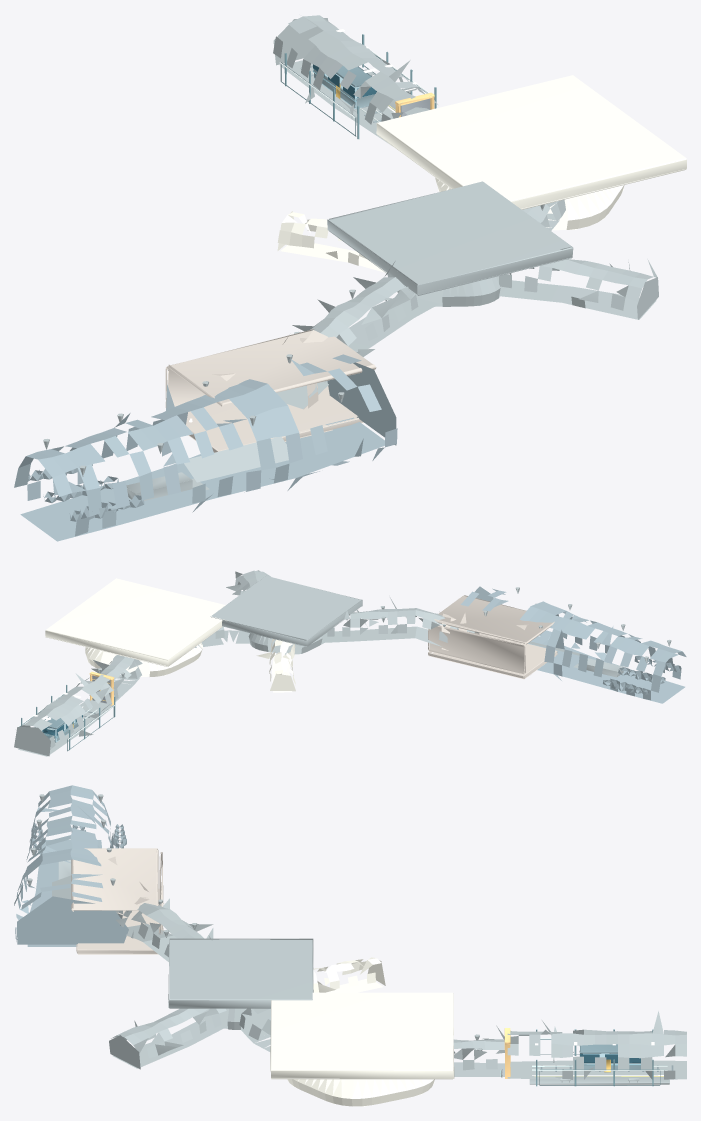
File: cave-low.glb
3 renders of one model, top to bottom at view 1: azimuth 30°, elevation 25°; view 2: azimuth 150°, elevation 25°; view 3: azimuth 270°, elevation 25°, orthographic. The views are drawn at different scales.
Parts seen in each view (by area): view 1: UN_Boat_Cavern, UN_Hall_Roof_Shield, UN_Junction_Roof_Shield, UN_Station_Approach, UN_Landing_Roof, UN_Descent, UN_Tide_Alcove, UN_Sheltered_Landing, UN_Salt_Fissure, UN_Wading_Ramp, UN_Underneath_Hall, UN_Four_Way_Junction (+2 smaller); view 2: UN_Hall_Roof_Shield, UN_Boat_Cavern, UN_Junction_Roof_Shield, UN_Station_Approach, UN_Descent, UN_Landing_Roof, UN_Landing_South_Wall, UN_Underneath_Hall, UN_Salt_Fissure, UN_Sheltered_Landing, UN_Final_Corridor, UN_Four_Way_Junction (+4 smaller); view 3: UN_Hall_Roof_Shield, UN_Junction_Roof_Shield, UN_Boat_Cavern, UN_Station_Approach, UN_Landing_Roof, UN_Tide_Alcove, UN_Underneath_Hall, UN_Descent, UN_Salt_Fissure, UN_Final_Corridor, UN_Sheltered_Landing, UN_Station_Preview_Platform (+2 smaller).
Boxes of the visible parts, x1=… form: UN_Boat_Cavern: x1=14, y1=354, x2=397, y2=541; UN_Hall_Roof_Shield: x1=376, y1=75, x2=686, y2=209; UN_Junction_Roof_Shield: x1=327, y1=181, x2=573, y2=295; UN_Station_Approach: x1=273, y1=15, x2=437, y2=145; UN_Landing_Roof: x1=168, y1=329, x2=376, y2=406; UN_Descent: x1=276, y1=261, x2=439, y2=408; UN_Tide_Alcove: x1=499, y1=259, x2=658, y2=319; UN_Sheltered_Landing: x1=186, y1=386, x2=363, y2=452; UN_Salt_Fissure: x1=277, y1=211, x2=386, y2=272; UN_Wading_Ramp: x1=184, y1=436, x2=288, y2=489; UN_Underneath_Hall: x1=435, y1=178, x2=624, y2=230; UN_Four_Way_Junction: x1=387, y1=273, x2=511, y2=306; UN_Hall_Roof_Shield: x1=45, y1=578, x2=229, y2=666; UN_Boat_Cavern: x1=461, y1=586, x2=686, y2=703; UN_Junction_Roof_Shield: x1=210, y1=576, x2=362, y2=646; UN_Station_Approach: x1=14, y1=673, x2=118, y2=756; UN_Descent: x1=321, y1=597, x2=478, y2=646; UN_Landing_Roof: x1=434, y1=595, x2=554, y2=644; UN_Landing_South_Wall: x1=428, y1=625, x2=525, y2=674; UN_Underneath_Hall: x1=85, y1=642, x2=202, y2=676; UN_Salt_Fissure: x1=256, y1=639, x2=295, y2=692; UN_Sheltered_Landing: x1=428, y1=631, x2=557, y2=679; UN_Final_Corridor: x1=91, y1=655, x2=142, y2=701; UN_Four_Way_Junction: x1=248, y1=633, x2=323, y2=654; UN_Hall_Roof_Shield: x1=270, y1=992, x2=454, y2=1079; UN_Junction_Roof_Shield: x1=168, y1=938, x2=313, y2=1008; UN_Boat_Cavern: x1=14, y1=785, x2=128, y2=946; UN_Station_Approach: x1=507, y1=1011, x2=686, y2=1079; UN_Landing_Roof: x1=71, y1=848, x2=158, y2=911; UN_Tide_Alcove: x1=109, y1=1008, x2=226, y2=1069; UN_Underneath_Hall: x1=287, y1=1079, x2=434, y2=1106; UN_Descent: x1=115, y1=898, x2=213, y2=961; UN_Salt_Fissure: x1=313, y1=957, x2=385, y2=992; UN_Final_Corridor: x1=453, y1=1025, x2=504, y2=1076; UN_Sheltered_Landing: x1=76, y1=889, x2=163, y2=954; UN_Station_Preview_Platform: x1=529, y1=1076, x2=669, y2=1084.
Size of the model in its own units: 148 by 17.98 by 139.
